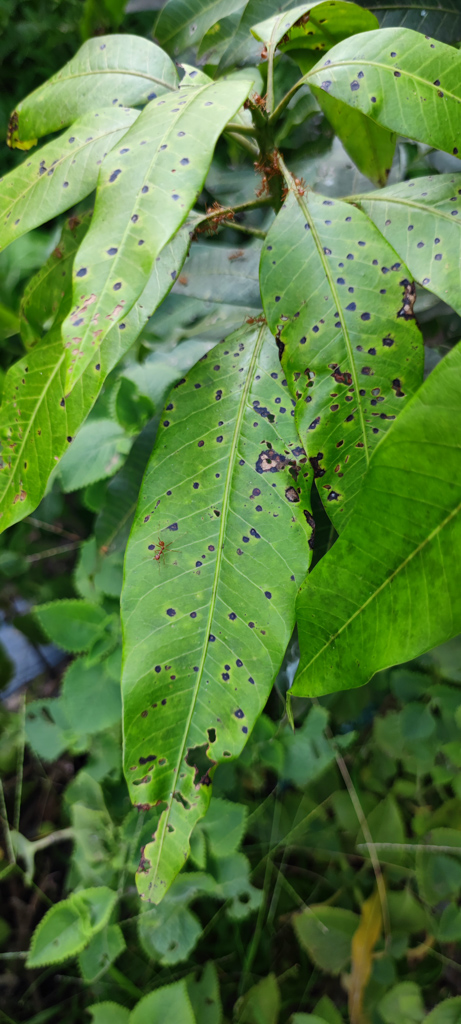Alternaria brassicicola: (115, 329, 292, 893), (53, 84, 233, 400), (249, 187, 423, 486), (308, 37, 448, 138), (377, 165, 455, 295)
